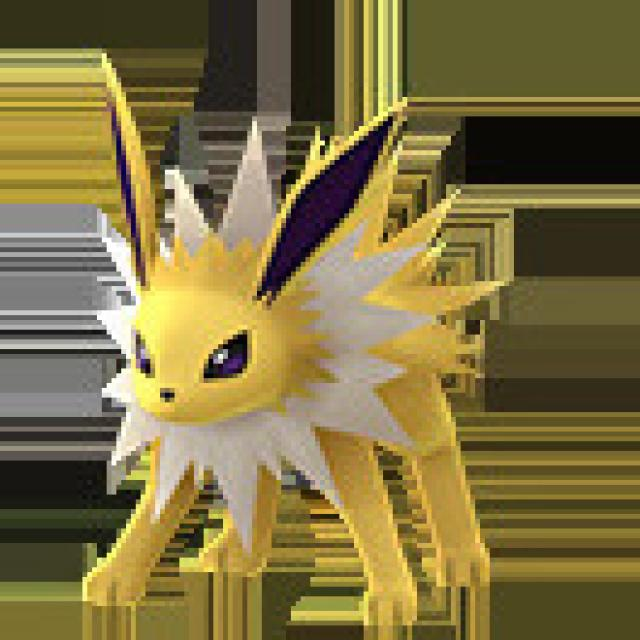Jolteon: (77, 61, 528, 622)
